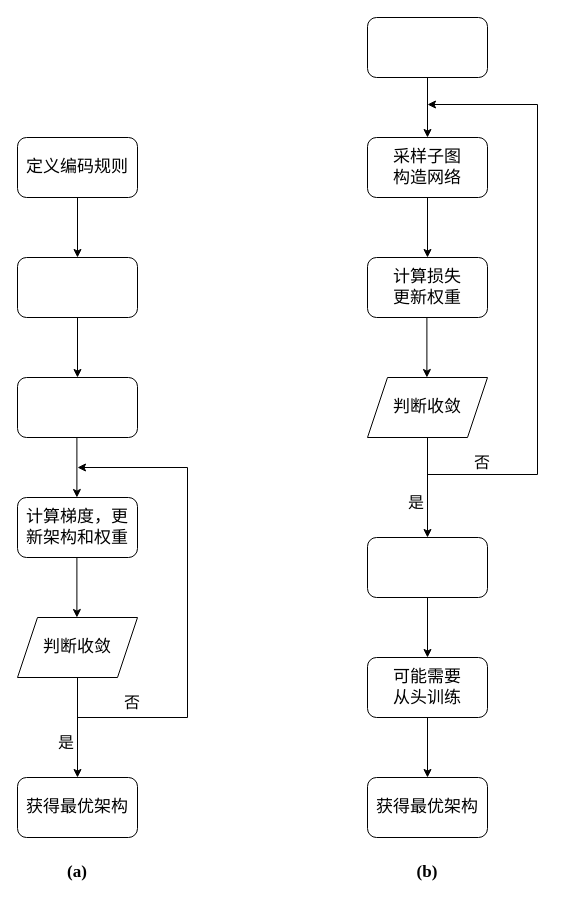
The diagram is 563 pixels wide and 905 high, and some of its shapes have lost their labels. The shapes that lost their labels are listed below. From the top down, each one's box as (x1, y1, x2, y2) in pixels, then its label:
(366, 16, 488, 78): 定义超网络
(16, 256, 138, 318): 采样架构
(16, 376, 138, 438): 计算网络损失
(366, 536, 488, 598): 寻找最优 子结构
